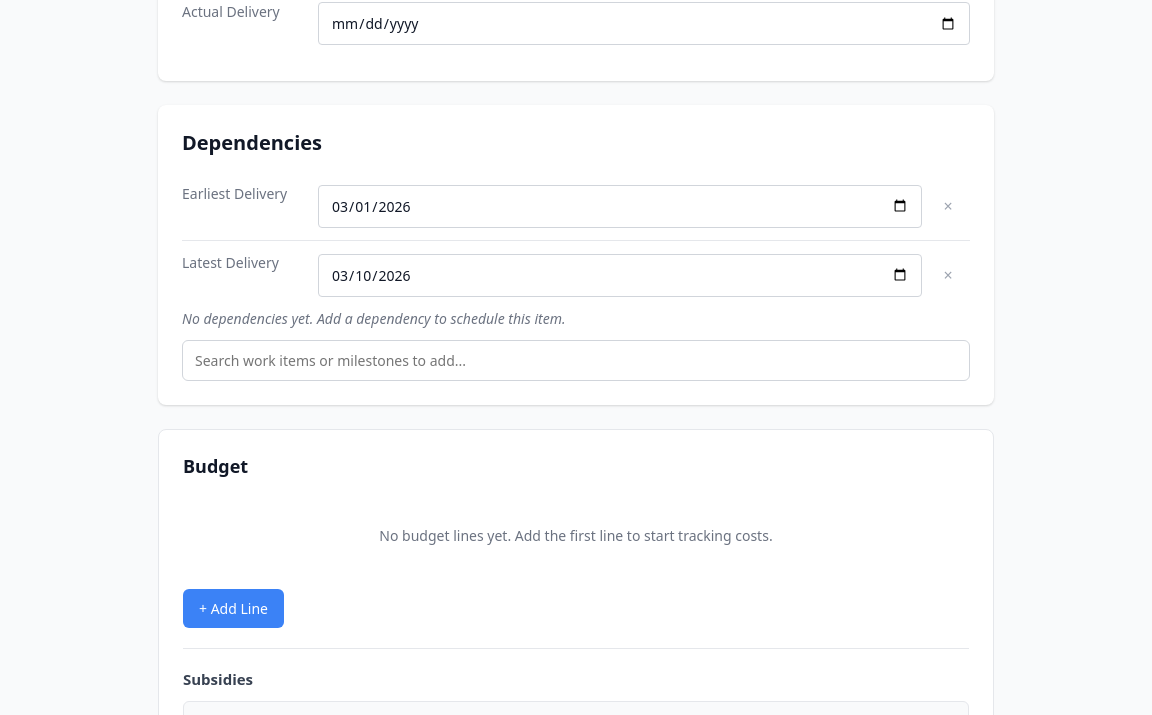
Test: HouseholdItemDetailPage › area breadcrumb in dep search dropdown (Issue #1239) › shows area breadcrumb path in dep search dropdown when work item has ancestors
(page scrolled)
Type into the dep search input to open the dropdown
Type "Elec" into the field with test id "dep-search-input". click: [576, 360]
box: [182,340,970,381]
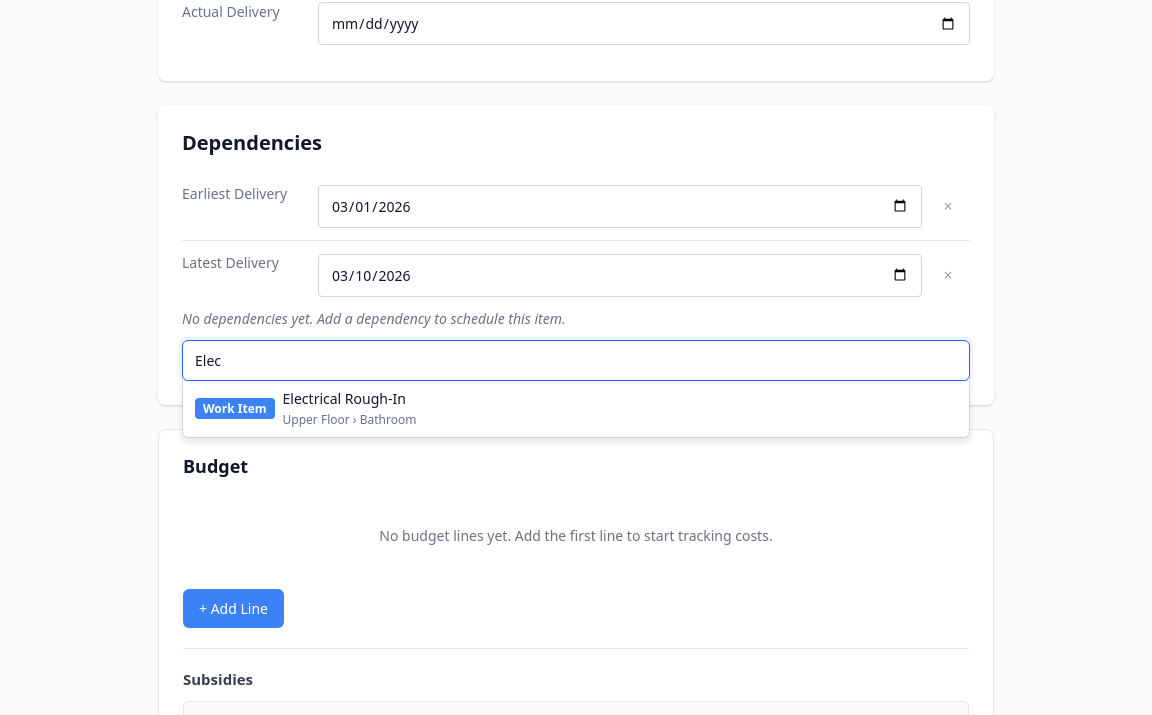
Expected: the text "Electrical Rough-In" is shown, [283,389,416,408]
Expected: the text "Upper Floor › Bathroom" is shown, [283,412,416,429]
